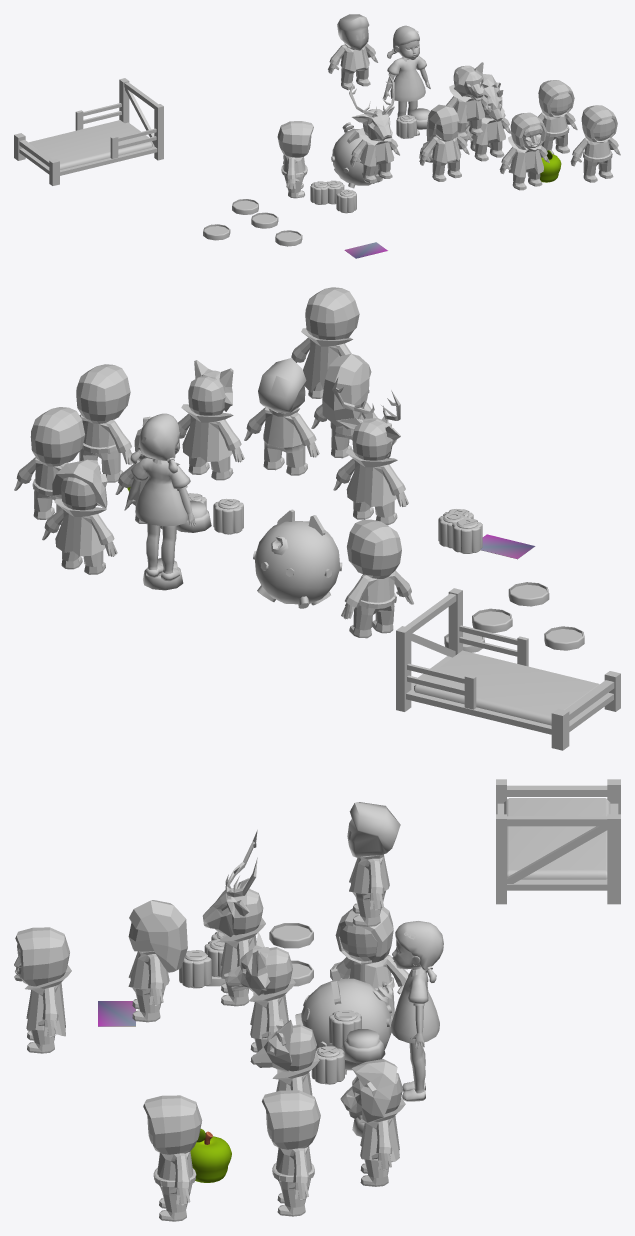
File: Apple_V1_01.fbx
The picture shows the model from 3 angles, top to bottom: view 1: azimuth 30°, elevation 25°; view 2: azimuth 150°, elevation 25°; view 3: azimuth 270°, elevation 25°; orthographic projection. The views are drawn at different scales.
Visible parts, largest first — view 1: squid_24, squid_21, squid_15, squid_17, squid_03, squid_23, squid_22, squid_20, squid_01, squid_02, squid_18, squid_16 (+9 smaller); view 2: squid_24, squid_15, squid_16, squid_21, squid_19, squid_02, squid_20, squid_22, squid_03, squid_17, squid_01, squid_23 (+8 smaller); view 3: squid_24, squid_15, squid_23, squid_17, squid_19, squid_03, squid_01, squid_22, squid_21, squid_20, squid_16, squid_02 (+8 smaller).
Boxes of the visible parts, bbox=[...] form: squid_24: bbox=[14, 78, 163, 185]; squid_21: bbox=[349, 74, 399, 182]; squid_15: bbox=[383, 25, 430, 138]; squid_17: bbox=[499, 112, 549, 190]; squid_03: bbox=[570, 105, 620, 182]; squid_23: bbox=[419, 104, 469, 181]; squid_22: bbox=[328, 14, 378, 90]; squid_20: bbox=[446, 62, 490, 139]; squid_01: bbox=[538, 80, 577, 154]; squid_02: bbox=[277, 121, 313, 198]; squid_18: bbox=[464, 86, 511, 161]; squid_16: bbox=[331, 122, 382, 188]; squid_24: bbox=[396, 588, 620, 750]; squid_15: bbox=[124, 413, 196, 581]; squid_16: bbox=[253, 509, 342, 608]; squid_21: bbox=[332, 377, 408, 525]; squid_19: bbox=[42, 459, 117, 574]; squid_02: bbox=[341, 519, 413, 638]; squid_20: bbox=[178, 360, 244, 480]; squid_22: bbox=[244, 358, 319, 475]; squid_03: bbox=[76, 364, 132, 482]; squid_17: bbox=[291, 287, 359, 398]; squid_01: bbox=[14, 407, 84, 524]; squid_23: bbox=[311, 354, 378, 458]; squid_24: bbox=[496, 779, 620, 904]; squid_15: bbox=[391, 921, 443, 1101]; squid_23: bbox=[128, 900, 187, 1022]; squid_17: bbox=[14, 927, 71, 1053]; squid_19: bbox=[340, 1059, 405, 1186]; squid_03: bbox=[143, 1095, 202, 1221]; squid_01: bbox=[262, 1090, 320, 1216]; squid_22: bbox=[347, 802, 400, 926]; squid_21: bbox=[202, 830, 265, 1006]; squid_20: bbox=[223, 932, 295, 1064]; squid_16: bbox=[295, 968, 392, 1074]; squid_02: bbox=[335, 907, 408, 1021].
Size of the model in its own units: 547 by 186 by 379.
